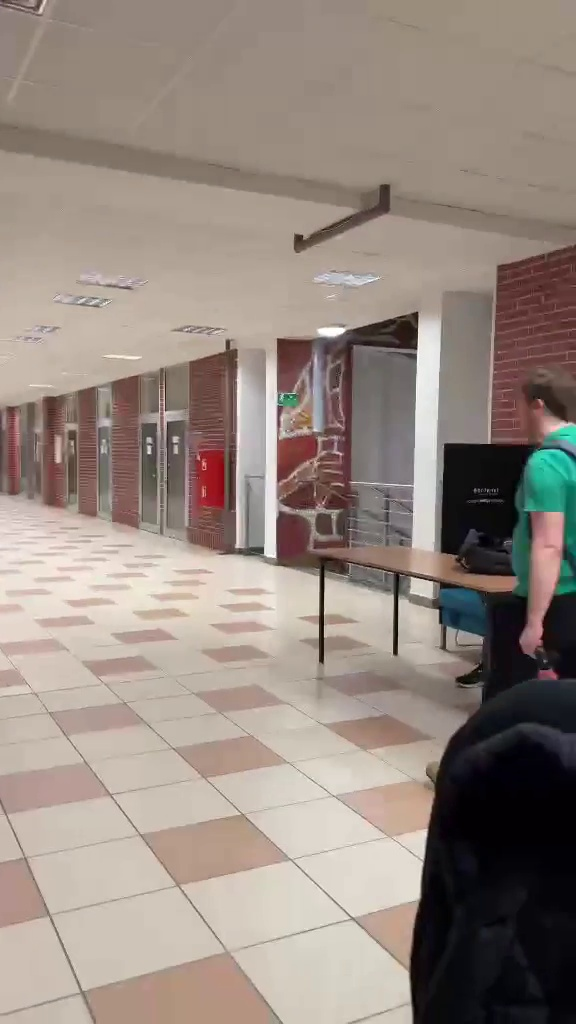no vest: (491, 358, 573, 723)
